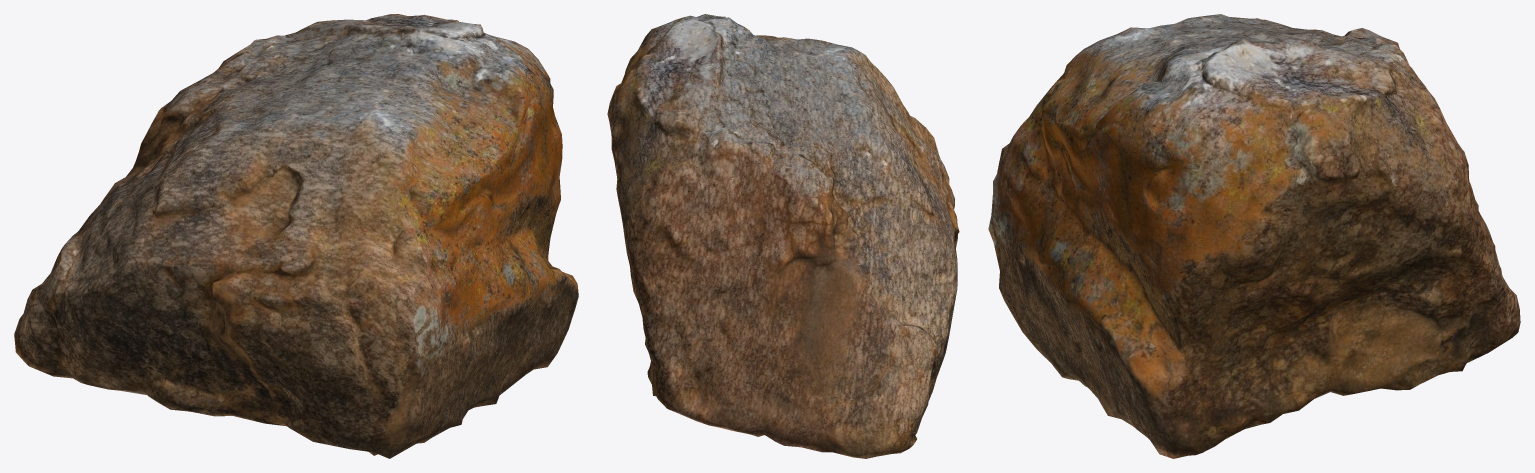
The model's file is bould3.glb.
3 views of the same model, side by side, from view 1: azimuth 30°, elevation 25°; view 2: azimuth 150°, elevation 25°; view 3: azimuth 270°, elevation 25° (orthographic). The views are drawn at different scales.
Parts seen in each view (by area): view 1: bould3; view 2: bould3; view 3: bould3.
Part boxes in pixels (x1,y1,x2,y2): bould3: (14,14,578,458); bould3: (607,14,959,458); bould3: (988,14,1520,458).
Size of the model in its own units: 2.51 by 1.9 by 2.49.
Materials: 1 (1 with a texture image).
